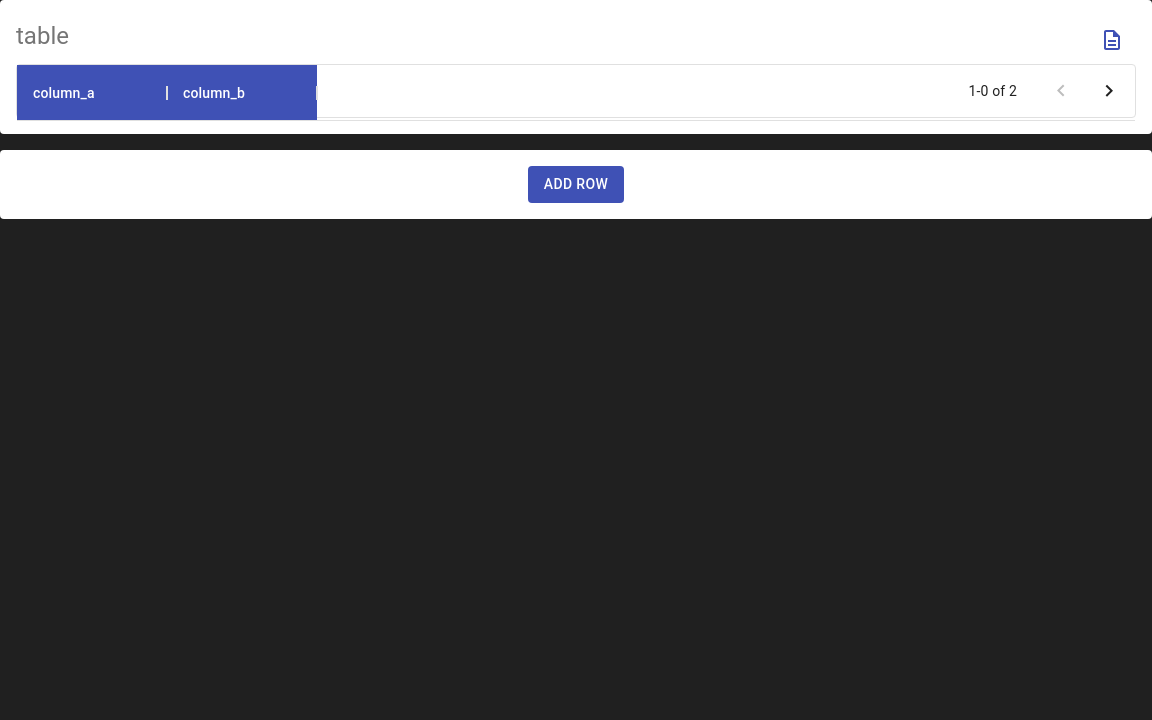
Test: <DatabaseTableContainer /> › on description button click › should display table description
Click the button named "description".
click(1112, 40)  # box 1088,16 -> 1136,64
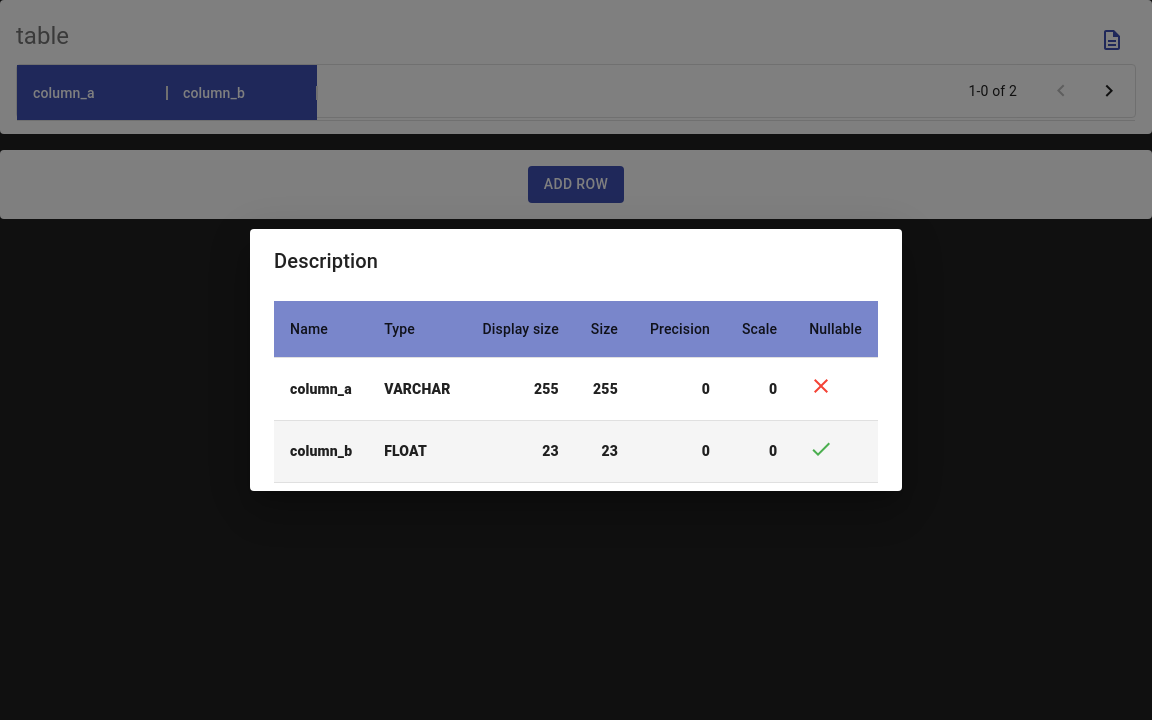
Expected: the row "column_a" is shown, 274,358 -> 878,420
Expected: the row "column_b" is shown, 274,420 -> 878,482
